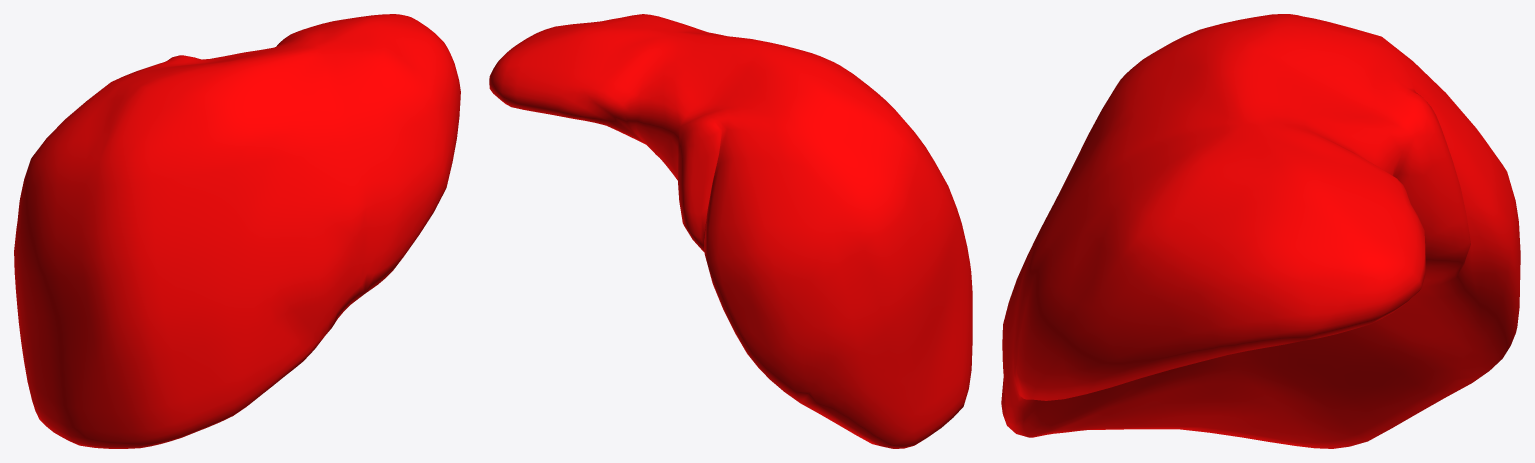
File: liver-smooth.obj
3 renders of one model, left to right at view 1: azimuth 30°, elevation 25°; view 2: azimuth 150°, elevation 25°; view 3: azimuth 270°, elevation 25°, orthographic. The views are drawn at different scales.
Parts seen in each view (by area): view 1: Mesh1; view 2: Mesh1; view 3: Mesh1.
Boxes of the visible parts, bbox=[...] form: Mesh1: bbox=[14, 14, 460, 448]; Mesh1: bbox=[489, 14, 972, 448]; Mesh1: bbox=[1001, 14, 1520, 448].
Bounding box in the file's own units: 6.39 × 4.91 × 4.41.
